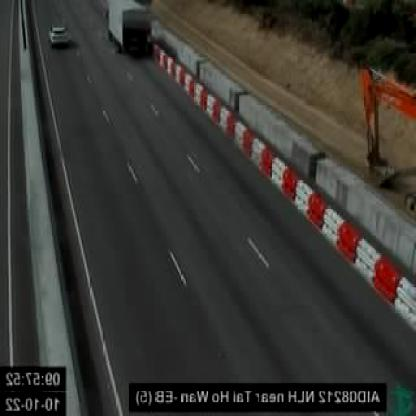Car: (48, 26, 68, 46)
Truck: (103, 0, 148, 56)
